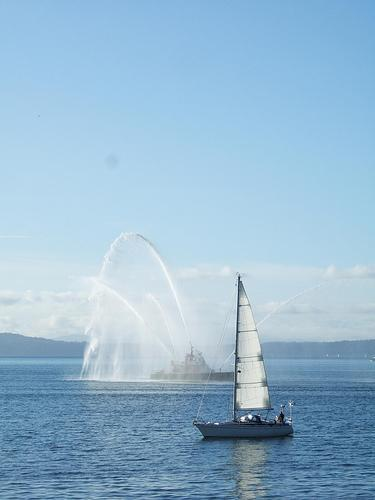Ship: (195, 275, 293, 441)
